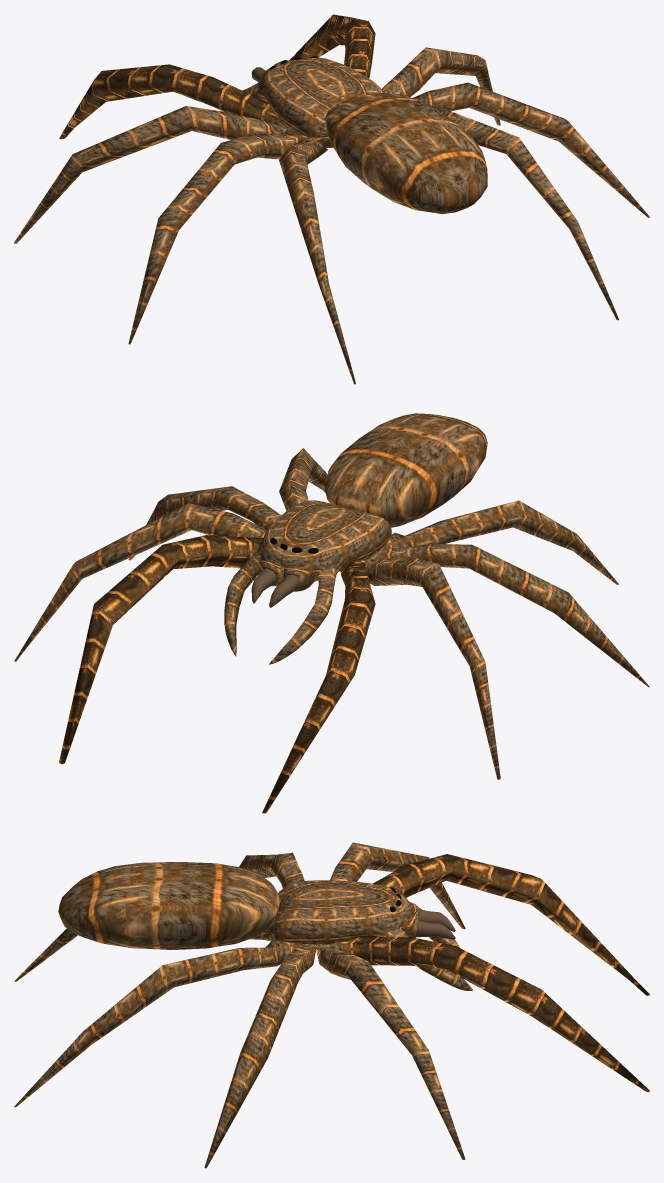
Rendered from spider_fixed.obj.
3 views of the same model, one above another, from view 1: azimuth 30°, elevation 25°; view 2: azimuth 150°, elevation 25°; view 3: azimuth 270°, elevation 25° (orthographic). The views are drawn at different scales.
Parts seen in each view (by area): view 1: Spider_Spider.005; view 2: Spider_Spider.005, Spider_teeth_Spider.004; view 3: Spider_Spider.005, Spider_teeth_Spider.004.
Boxes of the visible parts, left/top/right/bottom form: Spider_Spider.005: left=14, top=14, right=649, bottom=384; Spider_Spider.005: left=14, top=413, right=649, bottom=813; Spider_teeth_Spider.004: left=251, top=568, right=299, bottom=607; Spider_Spider.005: left=14, top=842, right=649, bottom=1168; Spider_teeth_Spider.004: left=416, top=909, right=455, bottom=939.
Bounding box in the file's own units: 0.92 × 0.2971 × 0.9932.
Materials: 4 (2 with a texture image).
